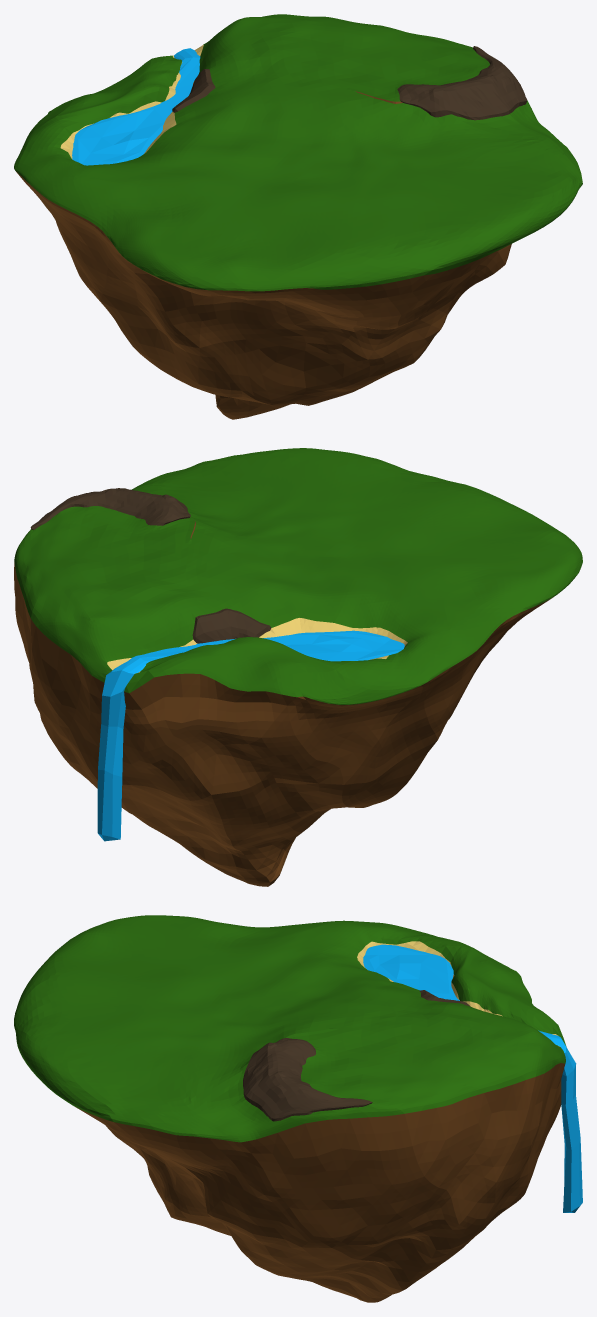
The model's file is island.fbx.
The picture shows the model from 3 angles, top to bottom: view 1: azimuth 30°, elevation 25°; view 2: azimuth 150°, elevation 25°; view 3: azimuth 270°, elevation 25°; orthographic projection. The views are drawn at different scales.
Parts seen in each view (by area): view 1: Island, Water; view 2: Island, Water; view 3: Island, Water.
Boxes of the visible parts, box(x1,y1,x2,y2) form: Island: box(14, 14, 582, 419); Water: box(72, 48, 200, 165); Island: box(14, 448, 582, 886); Water: box(97, 630, 404, 841); Island: box(14, 915, 566, 1302); Water: box(363, 944, 582, 1212).
Bounding box in the file's own units: 2121 × 1464 × 2382.
